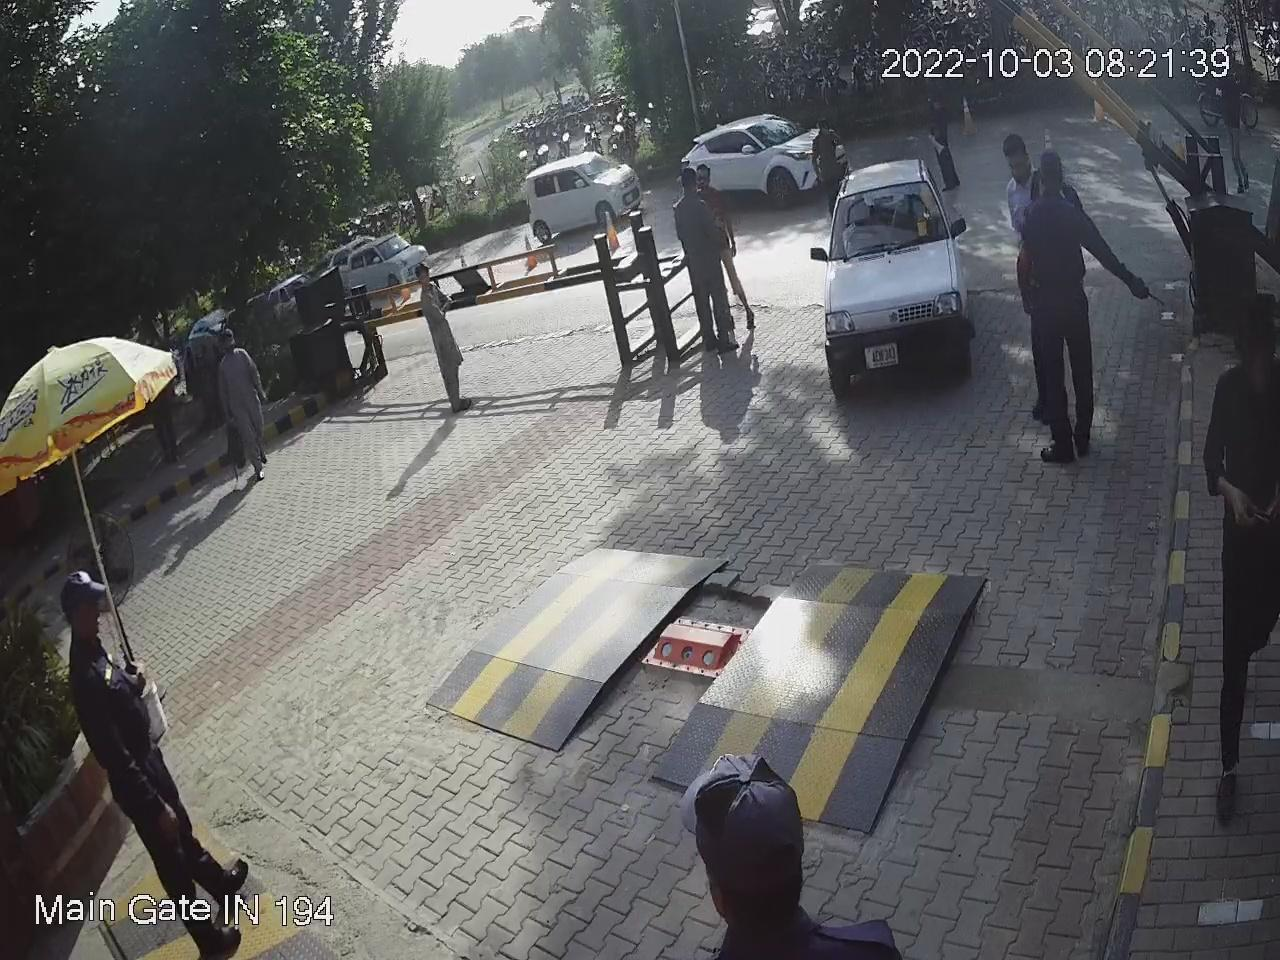windshield: (830, 165, 945, 265)
